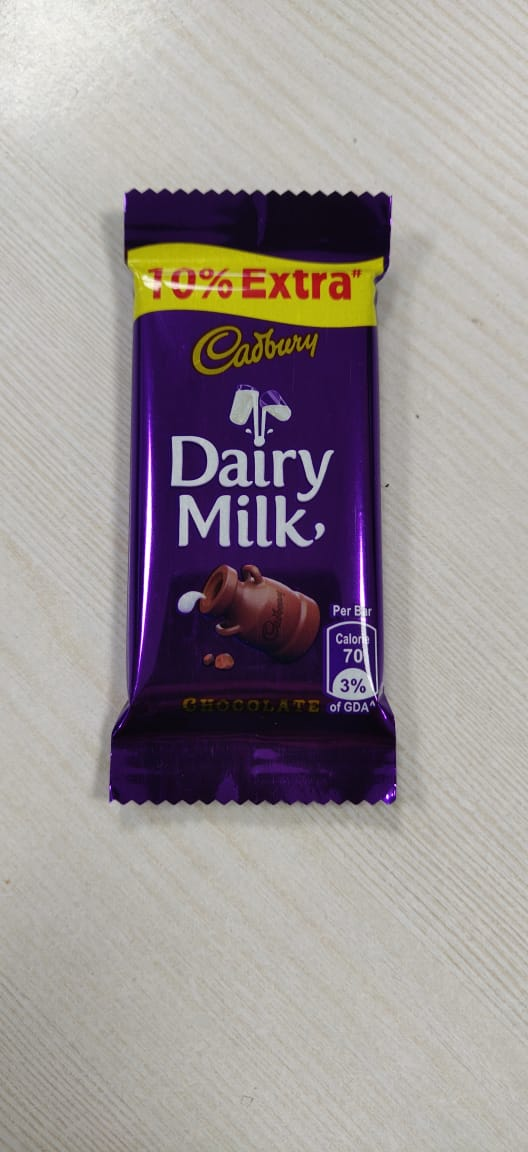dairy milk: (108, 174, 441, 858)
